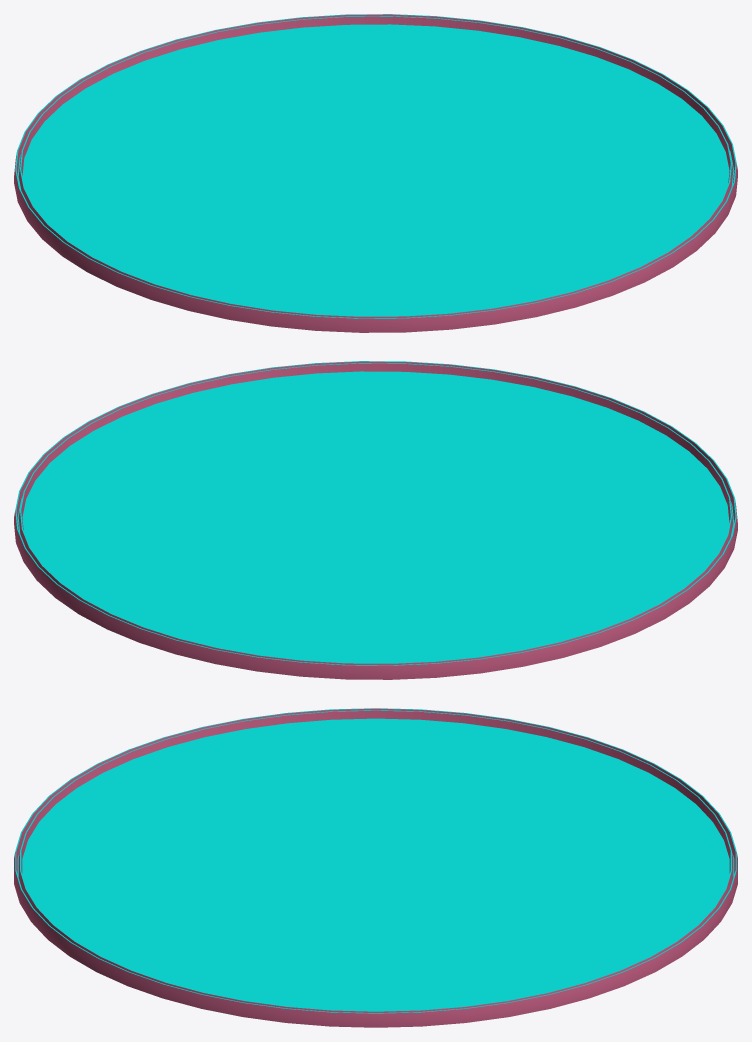
The model's file is Floor_Edge_Detail.fbx.
3 renders of one model, top to bottom at view 1: azimuth 30°, elevation 25°; view 2: azimuth 150°, elevation 25°; view 3: azimuth 270°, elevation 25°, orthographic.
Visible parts, largest first — view 1: Floor_Edge_Details; view 2: Floor_Edge_Details; view 3: Floor_Edge_Details.
Boxes of the visible parts, left/top/right/bottom form: Floor_Edge_Details: left=14, top=14, right=737, bottom=332; Floor_Edge_Details: left=14, top=361, right=737, bottom=679; Floor_Edge_Details: left=14, top=708, right=737, bottom=1027.
Size of the model in its own units: 1161 by 24 by 1159.
